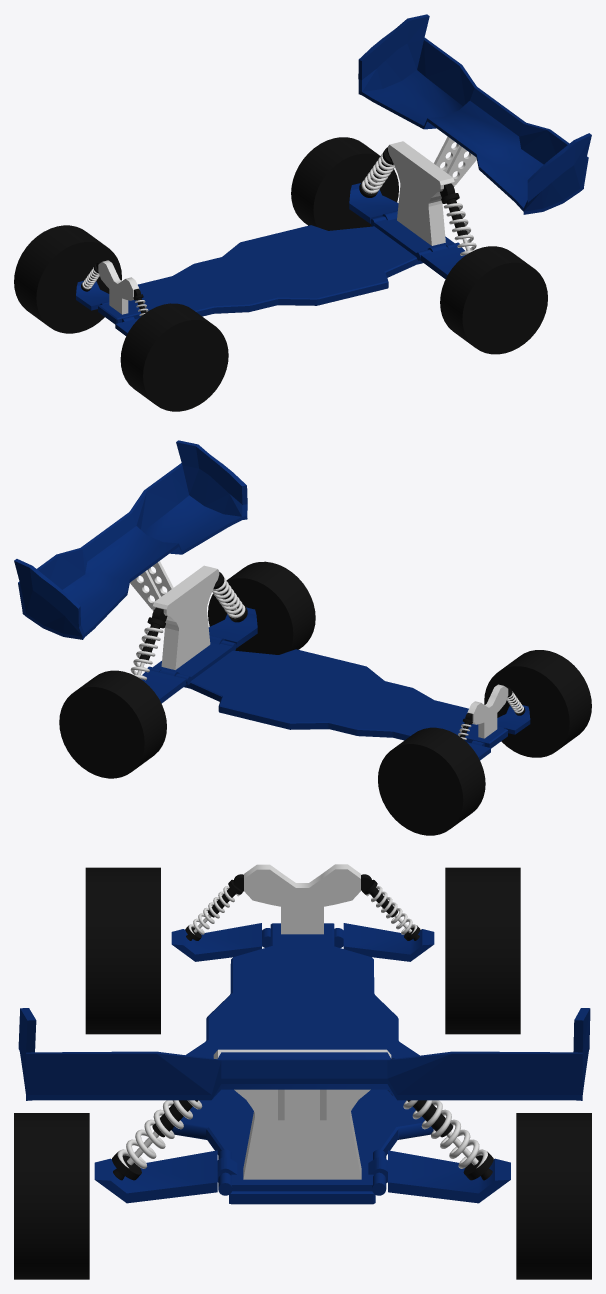
The model's file is Car1.FBX.
3 renders of one model, top to bottom at view 1: azimuth 30°, elevation 25°; view 2: azimuth 150°, elevation 25°; view 3: azimuth 270°, elevation 25°, orthographic. The views are drawn at different scales.
Parts seen in each view (by area): view 1: Box001, Box002, Cylinder008, Cylinder025, Cylinder026, Cylinder024, Cylinder019, Cylinder003, Spring004, Cylinder018, Spring001; view 2: Box001, Box002, Cylinder024, Cylinder026, Cylinder025, Cylinder008, Cylinder003, Cylinder019, Spring001, Cylinder013, Spring004; view 3: Box001, Box002, Cylinder026, Cylinder025, Cylinder008, Cylinder024, Cylinder003, Cylinder019, Cylinder018, Cylinder013, Spring001, Spring004 (+4 smaller).
Boxes of the visible parts, box(x1,y1,x2,y2) form: Box001: box(98, 141, 459, 324); Box002: box(358, 14, 591, 214); Cylinder008: box(440, 246, 547, 354); Cylinder025: box(120, 303, 228, 411); Cylinder026: box(14, 225, 121, 333); Cylinder024: box(291, 137, 398, 230); Cylinder019: box(349, 183, 398, 223); Cylinder003: box(420, 244, 465, 278); Spring004: box(361, 153, 394, 193); Cylinder018: box(76, 281, 109, 310); Spring001: box(444, 203, 476, 255); Box001: box(147, 565, 508, 748); Box002: box(14, 440, 247, 639); Cylinder024: box(59, 670, 166, 778); Cylinder026: box(378, 727, 485, 835); Cylinder025: box(484, 650, 591, 757); Cylinder008: box(208, 561, 315, 654); Cylinder003: box(208, 607, 257, 647); Cylinder019: box(141, 668, 186, 703); Spring001: box(212, 578, 245, 618); Cylinder013: box(497, 705, 530, 734); Spring004: box(130, 627, 163, 680); Box001: box(171, 864, 433, 1204); Box002: box(18, 1008, 590, 1120); Cylinder026: box(445, 867, 520, 1034); Cylinder025: box(85, 867, 160, 1034); Cylinder008: box(14, 1113, 89, 1279); Cylinder024: box(516, 1113, 591, 1279); Cylinder003: box(94, 1150, 237, 1203); Cylinder019: box(368, 1150, 510, 1203); Cylinder018: box(334, 923, 434, 961); Cylinder013: box(171, 923, 270, 961); Spring001: box(117, 1100, 202, 1168); Spring004: box(403, 1100, 487, 1168).
Bounding box in the file's own units: 154 × 65.76 × 106.
